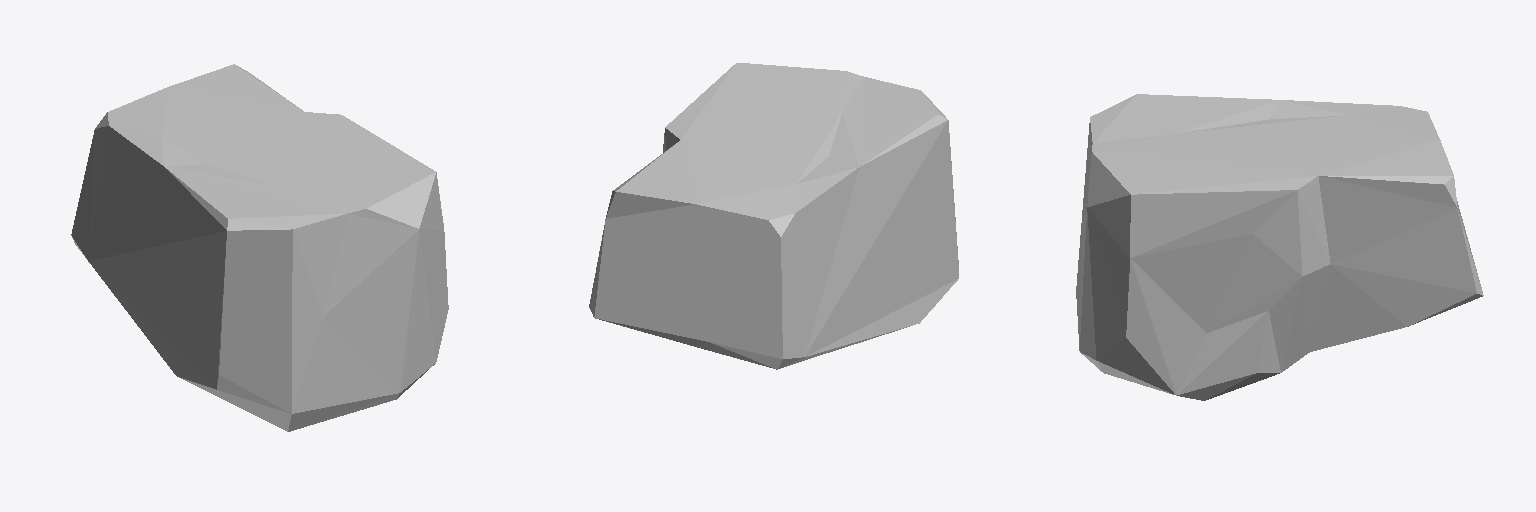
The model's file is rock.obj.
The picture shows the model from 3 angles: view 1: azimuth 30°, elevation 25°; view 2: azimuth 150°, elevation 25°; view 3: azimuth 270°, elevation 25°; orthographic projection.
Parts seen in each view (by area): view 1: Rock.005; view 2: Rock.005; view 3: Rock.005.
Boxes of the visible parts, x1,y1,x2,y2 form: Rock.005: [71, 64, 448, 431]; Rock.005: [589, 63, 958, 369]; Rock.005: [1076, 94, 1483, 400].
Bounding box in the file's own units: 1.82 × 1.71 × 2.78.